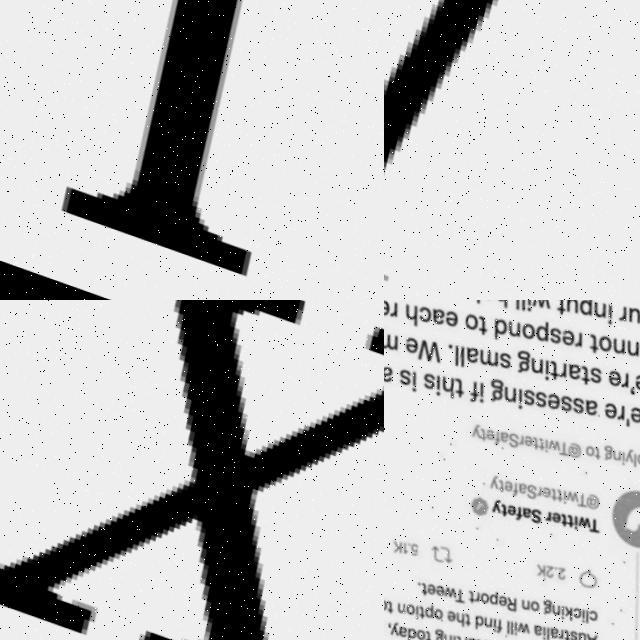1: (390, 536, 401, 551)
2: (544, 560, 558, 575), (533, 557, 546, 573)
5: (397, 537, 412, 554)
I: (51, 0, 245, 272)
J: (384, 0, 640, 300)
X: (0, 300, 384, 640)
